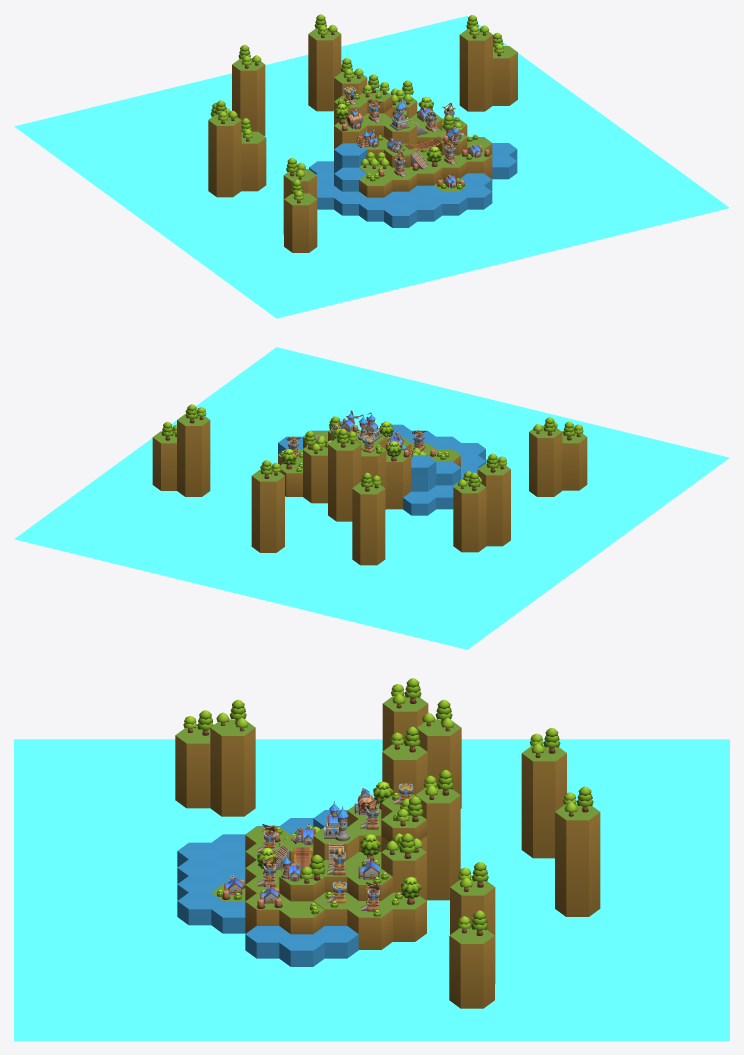
Rendered from GameLevel_present.fbx.
The picture shows the model from 3 angles, top to bottom: view 1: azimuth 30°, elevation 25°; view 2: azimuth 150°, elevation 25°; view 3: azimuth 270°, elevation 25°; orthographic projection. The views are drawn at different scales.
Parts seen in each view (by area): view 1: Plane, Circle.047, Circle.052, Circle.021, Circle.050, Circle.048, Circle.045, Circle.051, Circle.010, Circle.031, Circle.049, Circle.027 (+13 smaller); view 2: Plane, Circle.050, Circle.021, Circle.052, Circle.023, Circle.046, Circle.049, Circle.047, Circle.048, Circle.051, Circle.001, Circle.004 (+6 smaller); view 3: Plane, Circle.021, Circle.050, Circle.049, Circle.023, Circle.051, Circle.048, Circle.046, Circle.045, Circle.052, Circle.014, Circle.015 (+18 smaller).
Boxes of the visible parts, box(x1,y1,x2,y2) form: Plane: box(14, 16, 729, 318); Circle.047: box(208, 114, 241, 197); Circle.052: box(459, 28, 492, 111); Circle.021: box(308, 28, 341, 111); Circle.050: box(232, 58, 265, 135); Circle.048: box(284, 193, 317, 252); Circle.045: box(241, 131, 266, 191); Circle.051: box(493, 46, 517, 105); Circle.010: box(334, 143, 367, 173); Circle.031: box(384, 204, 417, 227); Circle.049: box(283, 169, 316, 234); Circle.027: box(359, 173, 392, 197); Plane: box(14, 347, 729, 649); Circle.050: box(352, 482, 385, 565); Circle.021: box(251, 469, 284, 552); Circle.052: box(177, 414, 210, 496); Circle.023: box(328, 438, 361, 521); Circle.046: box(453, 481, 486, 552); Circle.049: box(529, 425, 562, 496); Circle.047: box(477, 463, 510, 546); Circle.048: box(562, 431, 587, 490); Circle.051: box(152, 431, 176, 490); Circle.001: box(303, 445, 327, 503); Circle.004: box(386, 449, 411, 509); Plane: box(14, 739, 729, 1040); Circle.021: box(555, 803, 600, 916); Circle.050: box(521, 745, 566, 858); Circle.049: box(210, 719, 255, 816); Circle.023: box(415, 787, 460, 900); Circle.051: box(449, 927, 494, 1008); Circle.048: box(175, 727, 210, 808); Circle.046: box(416, 719, 461, 808); Circle.045: box(382, 743, 427, 794); Circle.052: box(450, 879, 495, 983); Circle.014: box(347, 901, 392, 949); Circle.015: box(382, 892, 426, 941).
Size of the model in its own units: 3989 by 748 by 4002.
Materials: 2 (1 with a texture image).
